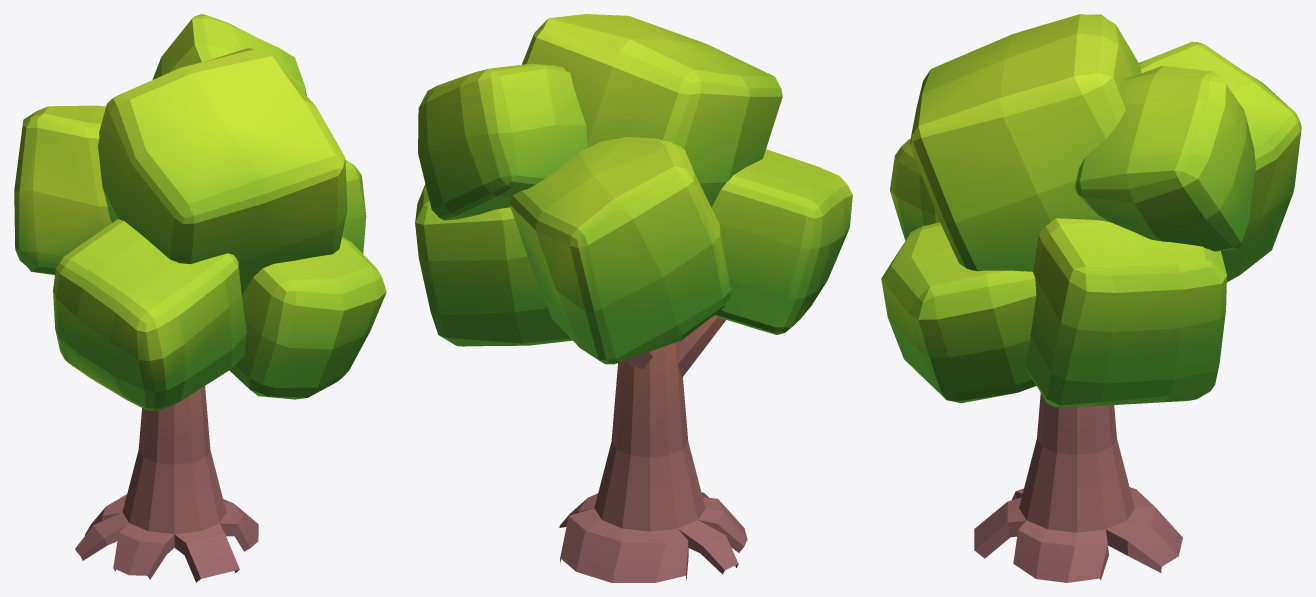
Rendered from Tree_Cube_SumAut.fbx.
3 renders of one model, left to right at view 1: azimuth 30°, elevation 25°; view 2: azimuth 150°, elevation 25°; view 3: azimuth 270°, elevation 25°, orthographic. The views are drawn at different scales.
Parts seen in each view (by area): view 1: Tree_Cube_SumAut; view 2: Tree_Cube_SumAut; view 3: Tree_Cube_SumAut.
Boxes of the visible parts, x1,y1,x2,y2 form: Tree_Cube_SumAut: (14, 14, 386, 582); Tree_Cube_SumAut: (415, 14, 852, 582); Tree_Cube_SumAut: (881, 14, 1301, 582).
Size of the model in its own units: 270 by 367 by 267.
